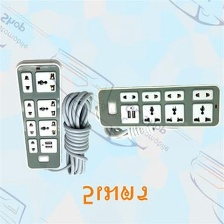three_eye_plug: (93, 81, 223, 130), (14, 58, 65, 172)
